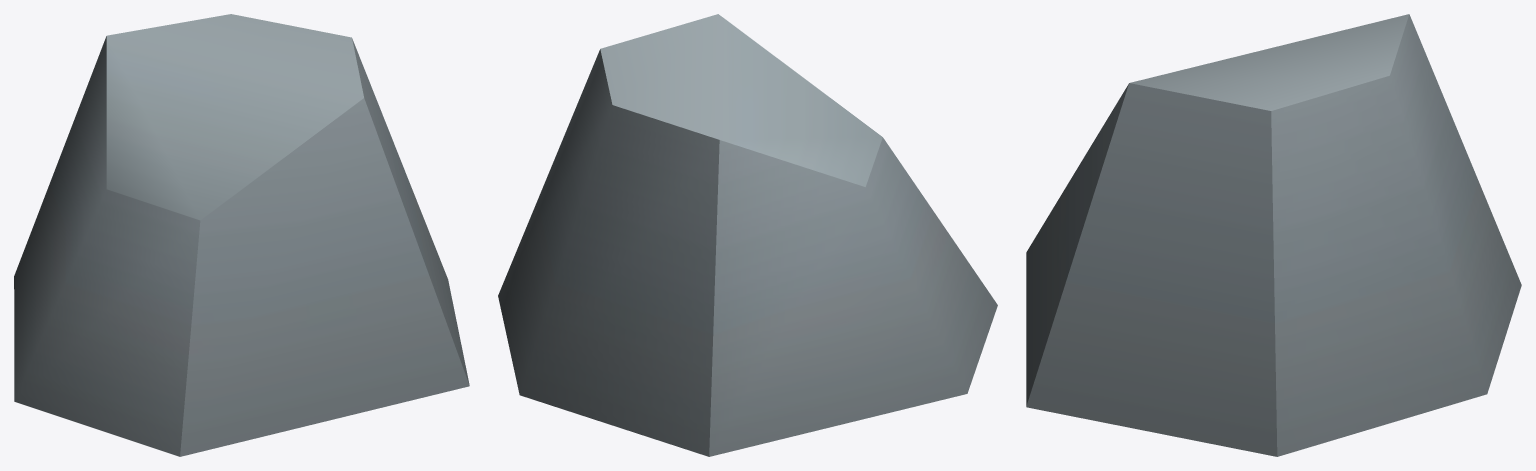
File: rock-d.glb
The picture shows the model from 3 angles, left to right: view 1: azimuth 30°, elevation 25°; view 2: azimuth 150°, elevation 25°; view 3: azimuth 270°, elevation 25°; orthographic projection. The views are drawn at different scales.
Visible parts, largest first — view 1: rock_single_D; view 2: rock_single_D; view 3: rock_single_D.
Part boxes in pixels (x1,y1,x2,y2): rock_single_D: [14, 14, 469, 456]; rock_single_D: [498, 14, 997, 456]; rock_single_D: [1026, 14, 1521, 456].
Bounding box in the file's own units: 0.2866 × 0.1629 × 0.2497.
1 material, 1 textured.
